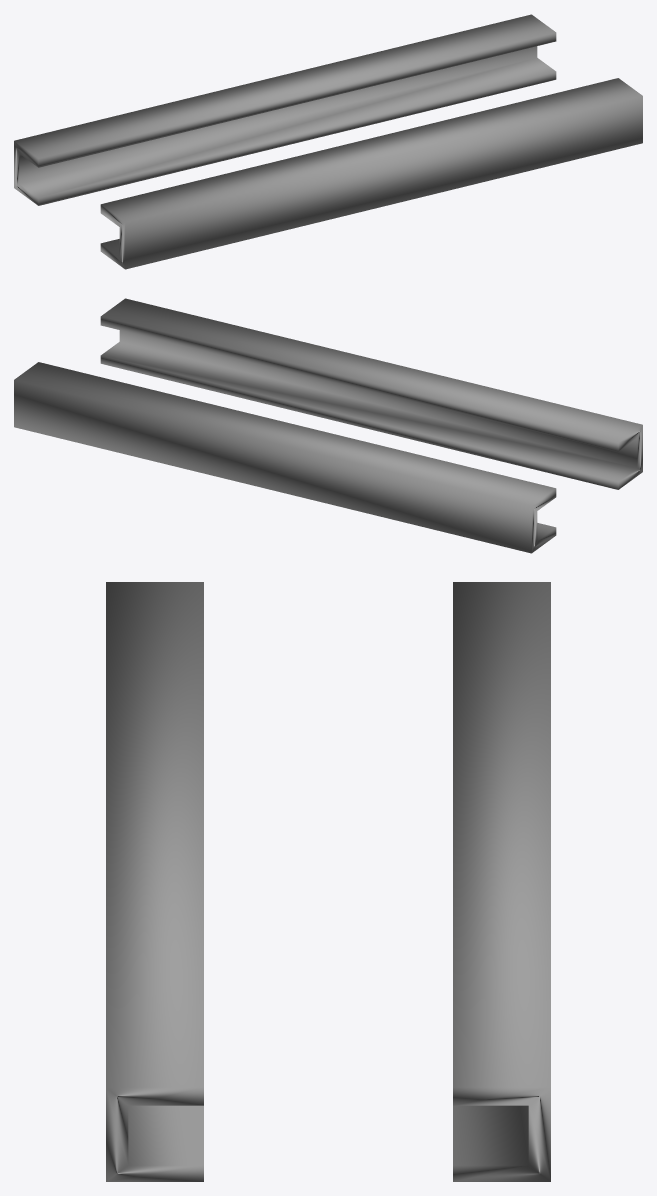
File: walltrack.gltf
The picture shows the model from 3 angles, top to bottom: view 1: azimuth 30°, elevation 25°; view 2: azimuth 150°, elevation 25°; view 3: azimuth 270°, elevation 25°; orthographic projection. The views are drawn at different scales.
Parts seen in each view (by area): view 1: Box1160, Box1355; view 2: Box1160, Box1355; view 3: Box1355, Box1160.
Part boxes in pixels (x1,y1,x2,y2): Box1160: (100, 78, 642, 269); Box1355: (14, 14, 556, 205); Box1160: (100, 298, 642, 489); Box1355: (14, 362, 556, 553); Box1355: (453, 582, 550, 1181); Box1160: (106, 582, 203, 1181).
Bounding box in the file's own units: 1717 × 150 × 639.
Materials: 1 (1 with a texture image).
